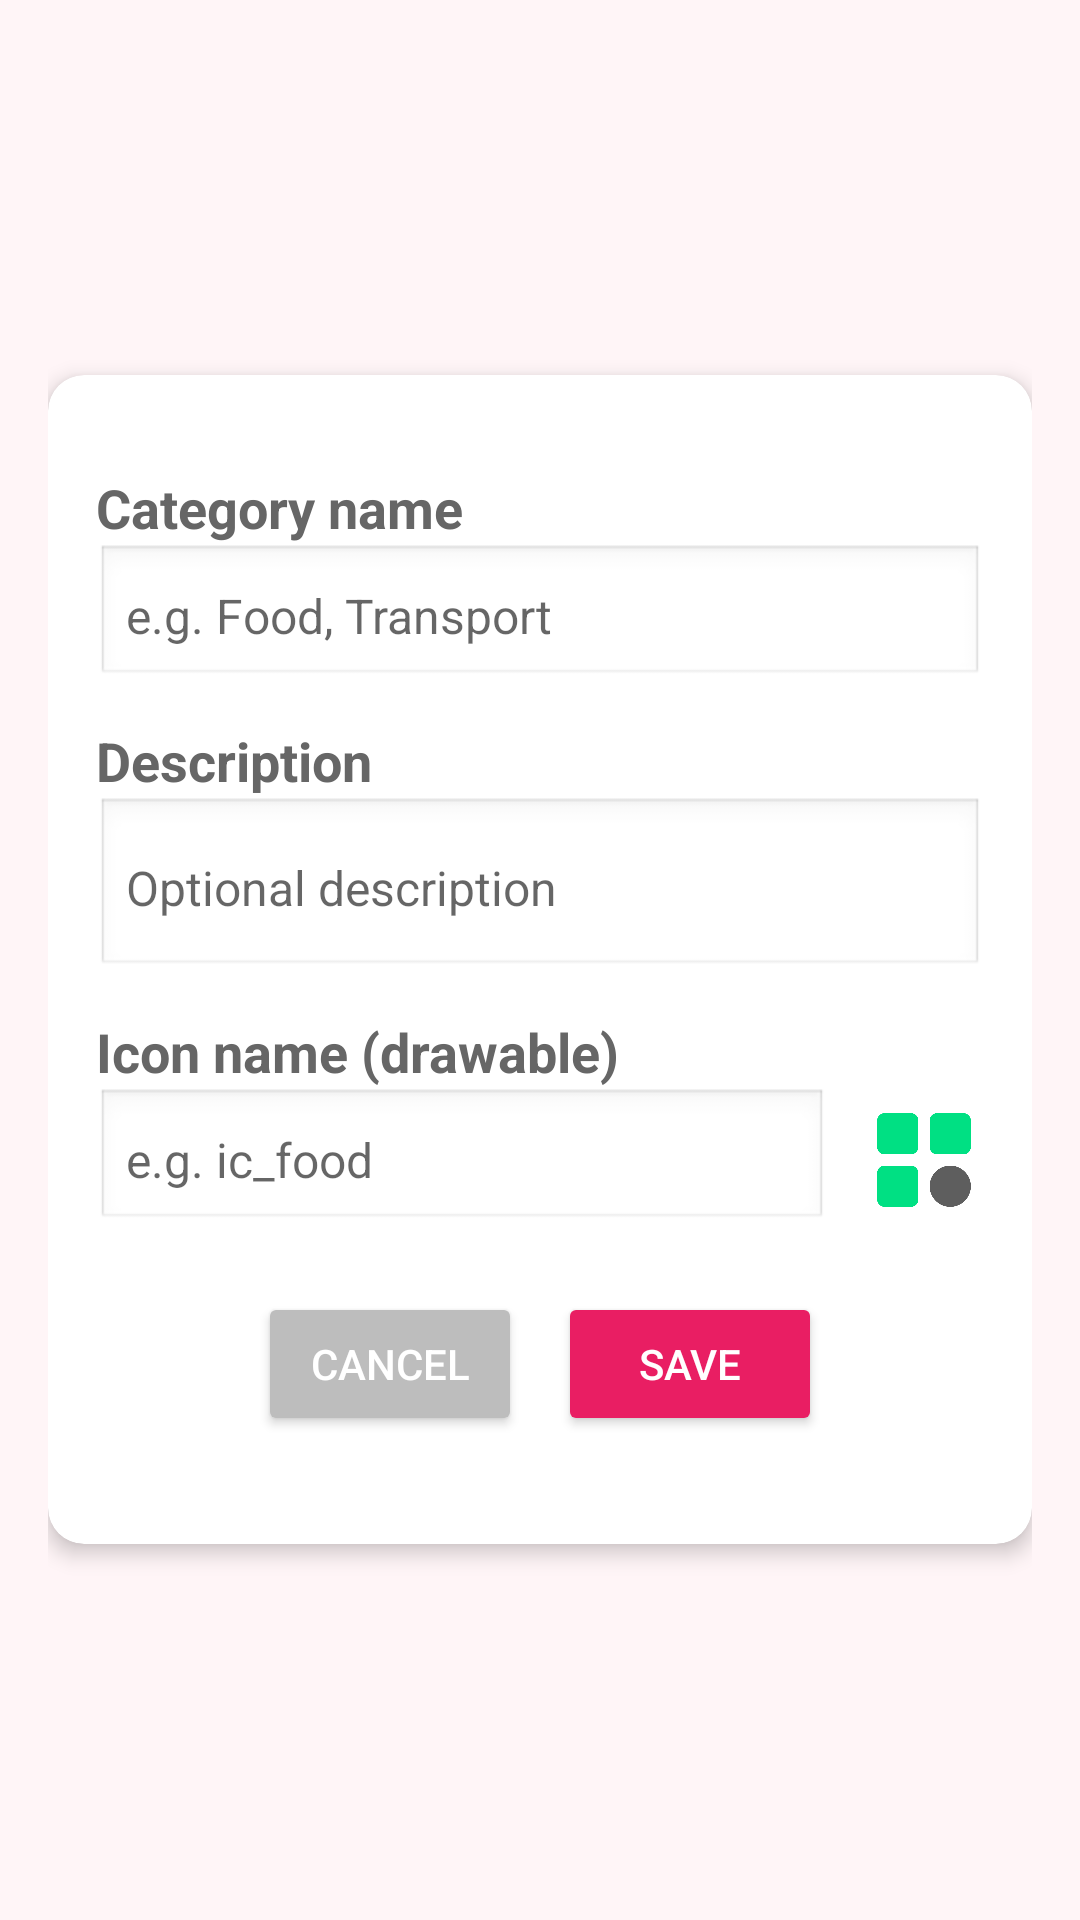

Icon bounding boxes for this 1080px x 1920px phone screenshot, format detection(x1, y1, x2, y2):
Icon preview: detection(877, 1113, 971, 1207)
